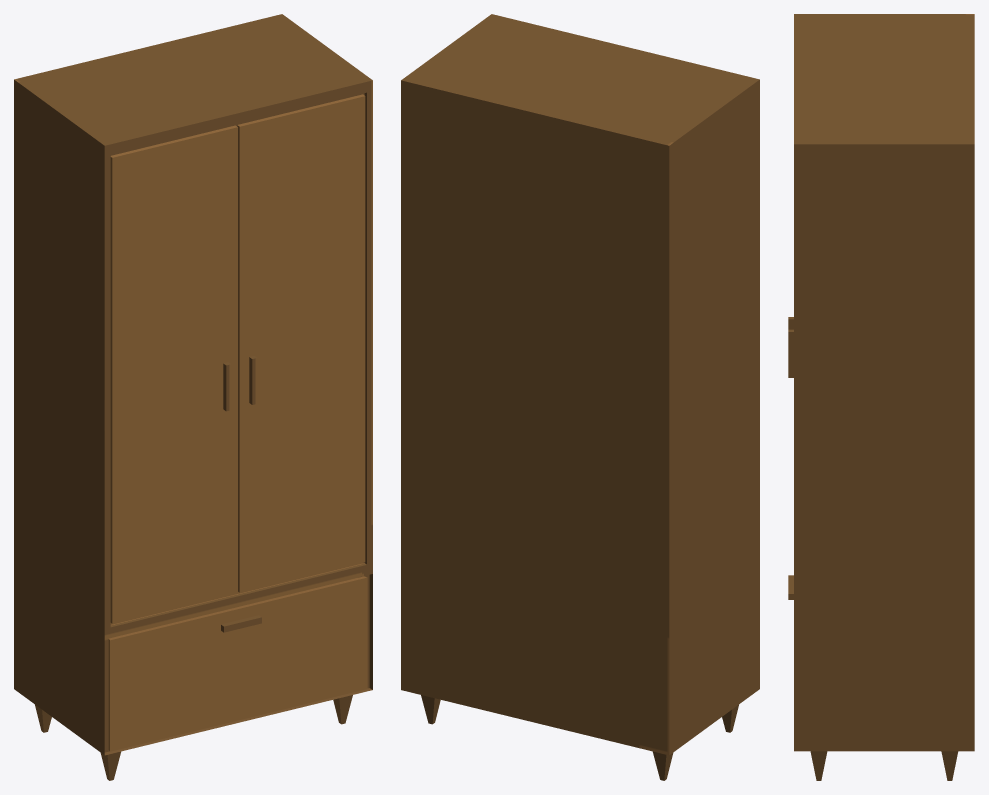
Rendered from ArmarioMaderaMarronblend.fbx.
The picture shows the model from 3 angles, left to right: view 1: azimuth 30°, elevation 25°; view 2: azimuth 150°, elevation 25°; view 3: azimuth 270°, elevation 25°; orthographic projection.
Visible parts, largest first — view 1: armario; view 2: armario; view 3: armario.
Boxes of the visible parts, x1,y1,x2,y2 form: armario: (14,14,372,780); armario: (401,14,759,780); armario: (788,14,974,780).
Bounding box in the file's own units: 104 × 239 × 62.74.
